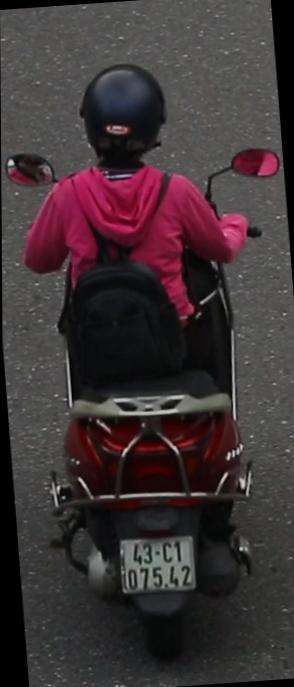LP: (113, 530, 200, 604)
helmet: (72, 57, 175, 185)
